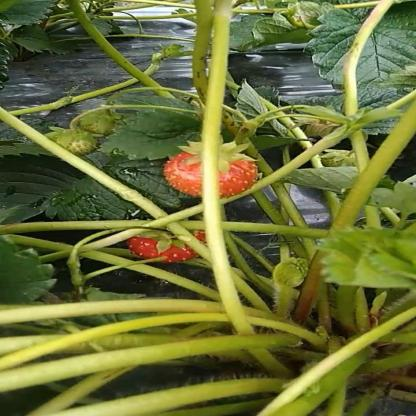ripe: (162, 146, 254, 201), (126, 228, 207, 262)
unripe: (45, 129, 102, 156), (75, 113, 120, 132)
